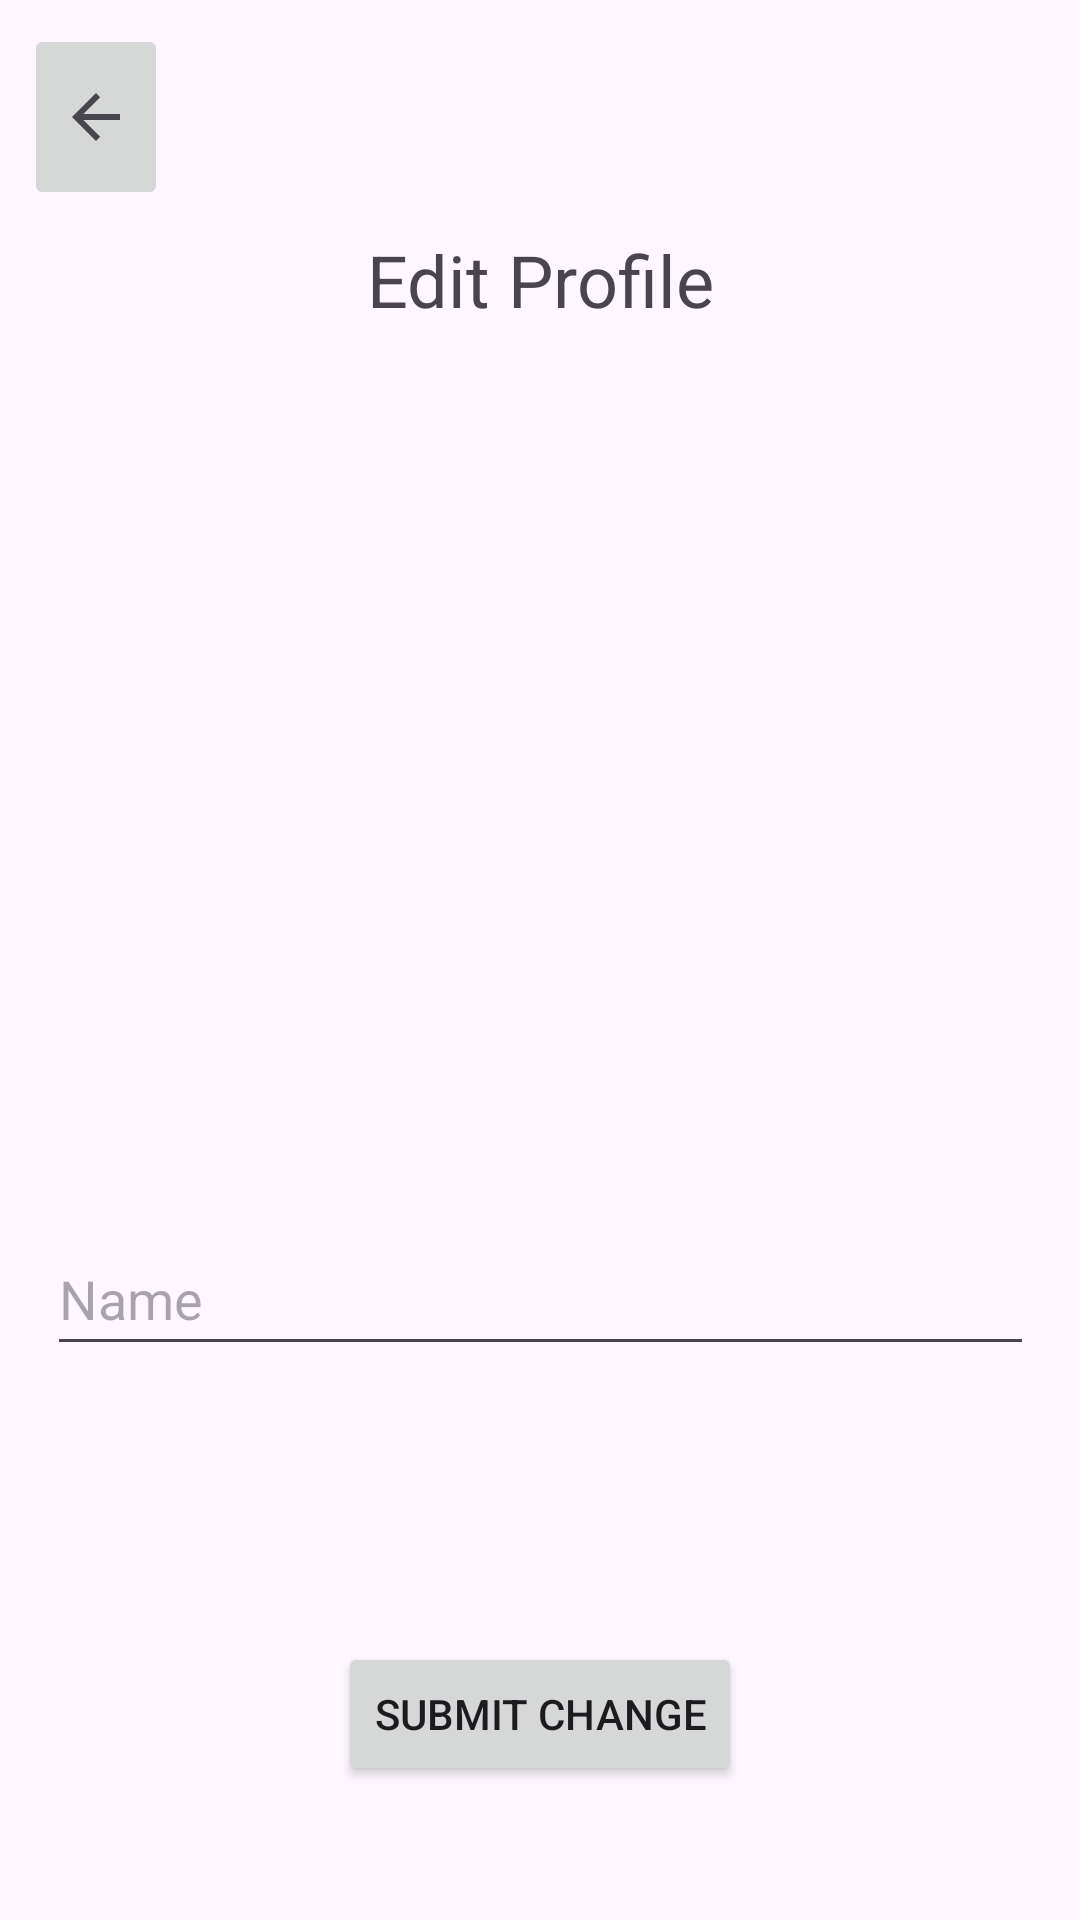

Locate icon controls on the screen. Image size 1080px x 1920px, boxes as (x1,y1,x2,y2).
Back to Main: (36,42,156,192)
